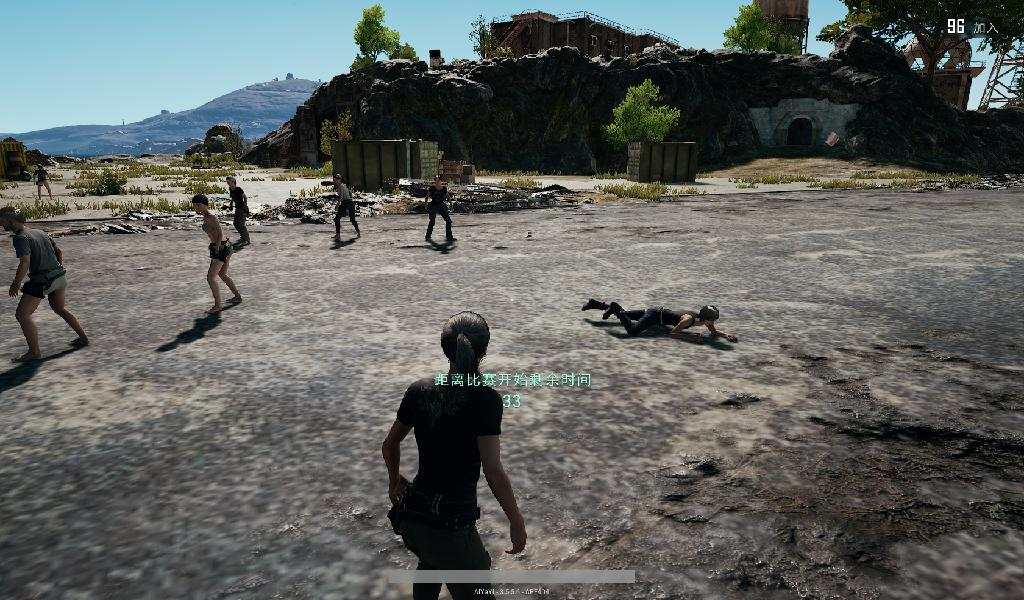Target Person: (377, 310, 530, 600), (1, 206, 88, 362), (580, 296, 739, 344), (191, 193, 242, 315), (423, 175, 456, 244), (224, 175, 253, 251), (331, 171, 361, 241), (31, 163, 55, 202)
